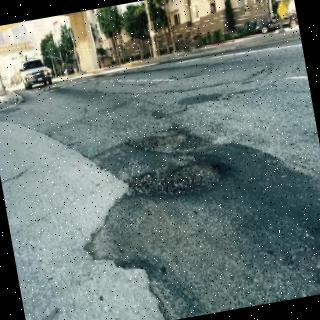pothole: (127, 163, 222, 198), (124, 128, 210, 154)
